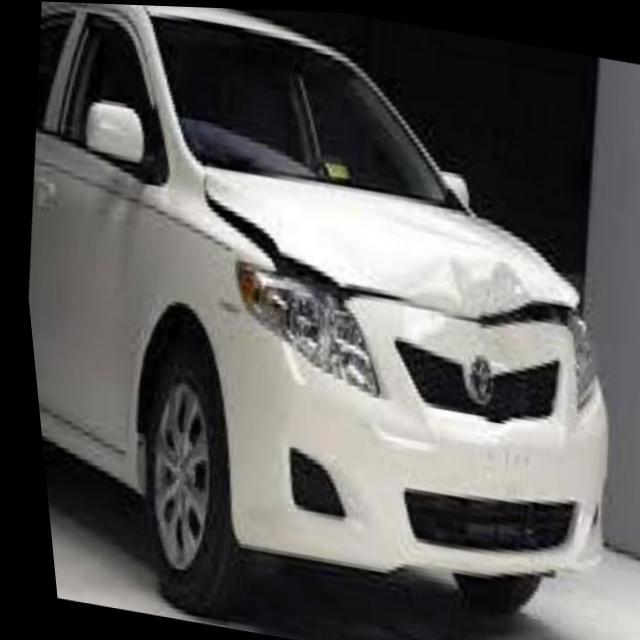dent: (394, 240, 545, 375)
